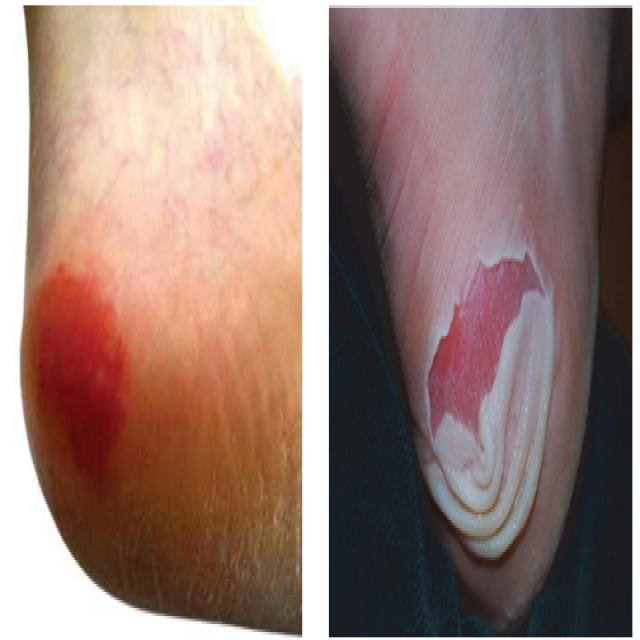stage-1: (31, 268, 131, 480)
stage-2: (430, 257, 545, 459)
